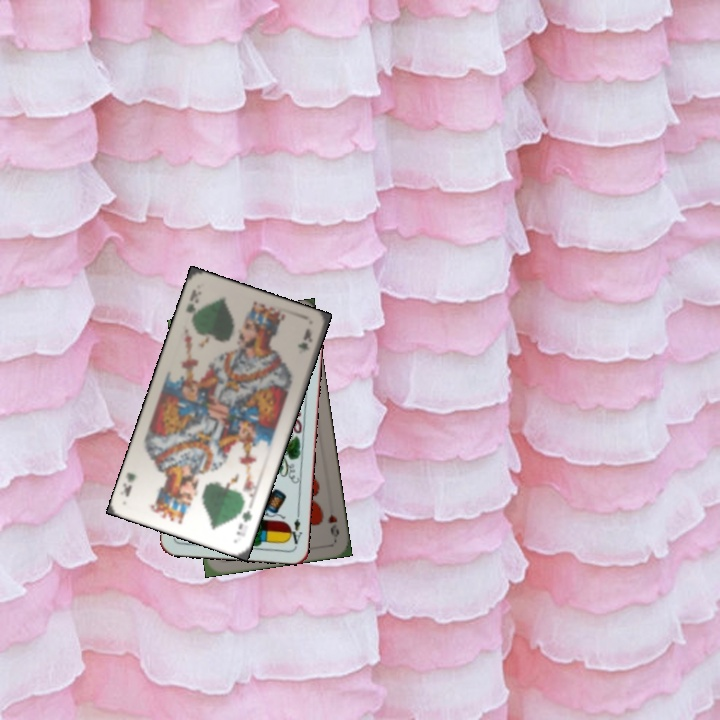EA: (284, 507, 305, 547)
GK: (232, 506, 254, 539), (181, 285, 201, 316)
H9: (324, 510, 342, 540)
